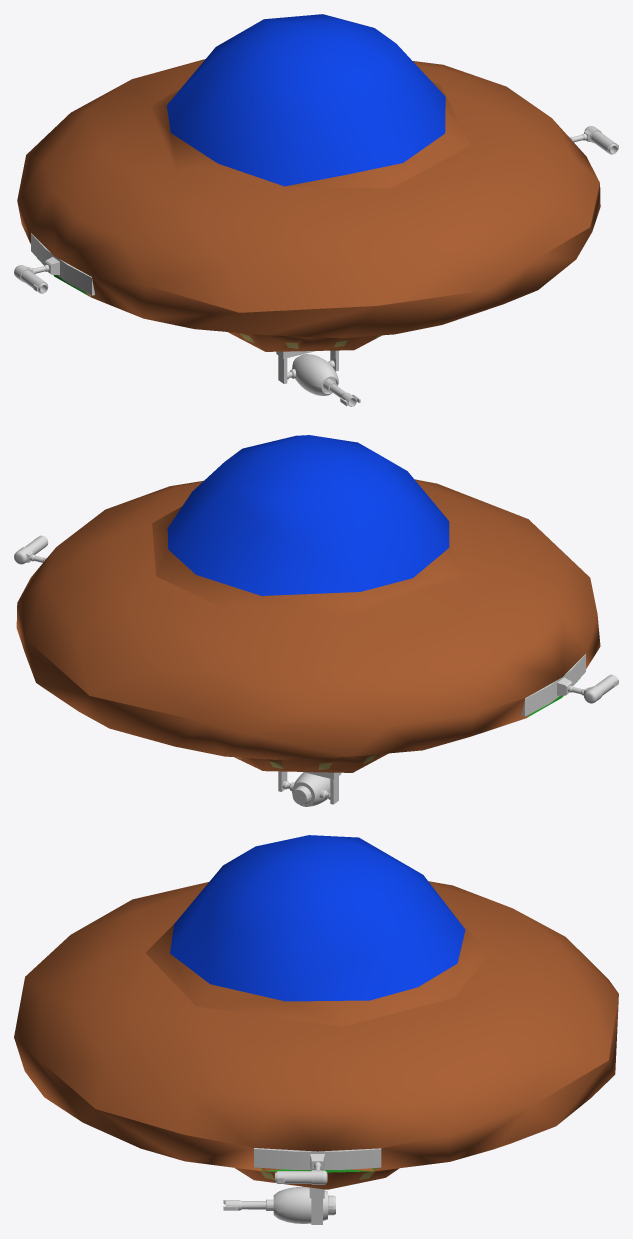
Rendered from sin_nombre.fbx.
3 views of the same model, one above another, from view 1: azimuth 30°, elevation 25°; view 2: azimuth 150°, elevation 25°; view 3: azimuth 270°, elevation 25° (orthographic). The views are drawn at different scales.
Visible parts, largest first — view 1: Ship, BottomGun, RightGun_Holder, RightGun, LeftGun, BottomGun_Holder; view 2: Ship, RightGun_Holder, BottomGun, RightGun, LeftGun, BottomGun_Holder; view 3: Ship, LeftGun_Holder, BottomGun, LeftGun.
Boxes of the visible parts, x1,y1,x2,y2 form: Ship: [17, 14, 600, 351]; BottomGun: [287, 354, 360, 406]; RightGun_Holder: [31, 233, 94, 295]; RightGun: [14, 264, 49, 293]; LeftGun: [570, 126, 618, 154]; BottomGun_Holder: [276, 350, 338, 383]; Ship: [16, 435, 600, 772]; RightGun_Holder: [521, 654, 585, 716]; BottomGun: [282, 772, 330, 806]; RightGun: [567, 674, 618, 703]; LeftGun: [14, 535, 48, 564]; BottomGun_Holder: [278, 771, 341, 804]; Ship: [14, 835, 618, 1189]; LeftGun_Holder: [254, 1148, 381, 1170]; BottomGun: [223, 1186, 335, 1223]; LeftGun: [275, 1162, 327, 1184].
Size of the model in its own units: 1218 by 714 by 1050.
